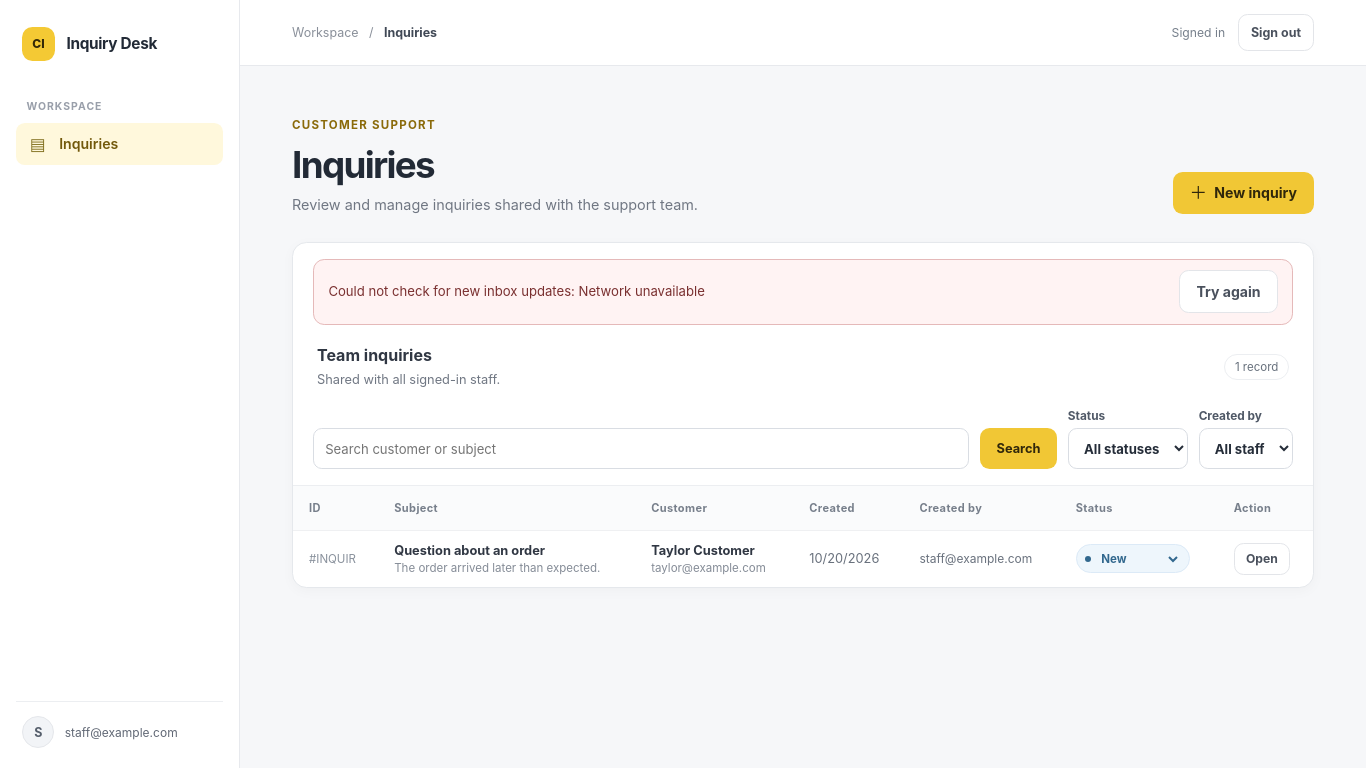
it: App › keeps current rows visible and offers retry when a background check fails
This screenshot has width=1366, height=768.
Expected: the text "Question about an order" is shown, [394,542,545,558]
Expected: the message "Could not check for new inbox updates: Network unavailable Try again" is shown, [313,259,1293,325]
Click the button "Try again".
click(1228, 292)  # box [1179,270,1278,313]
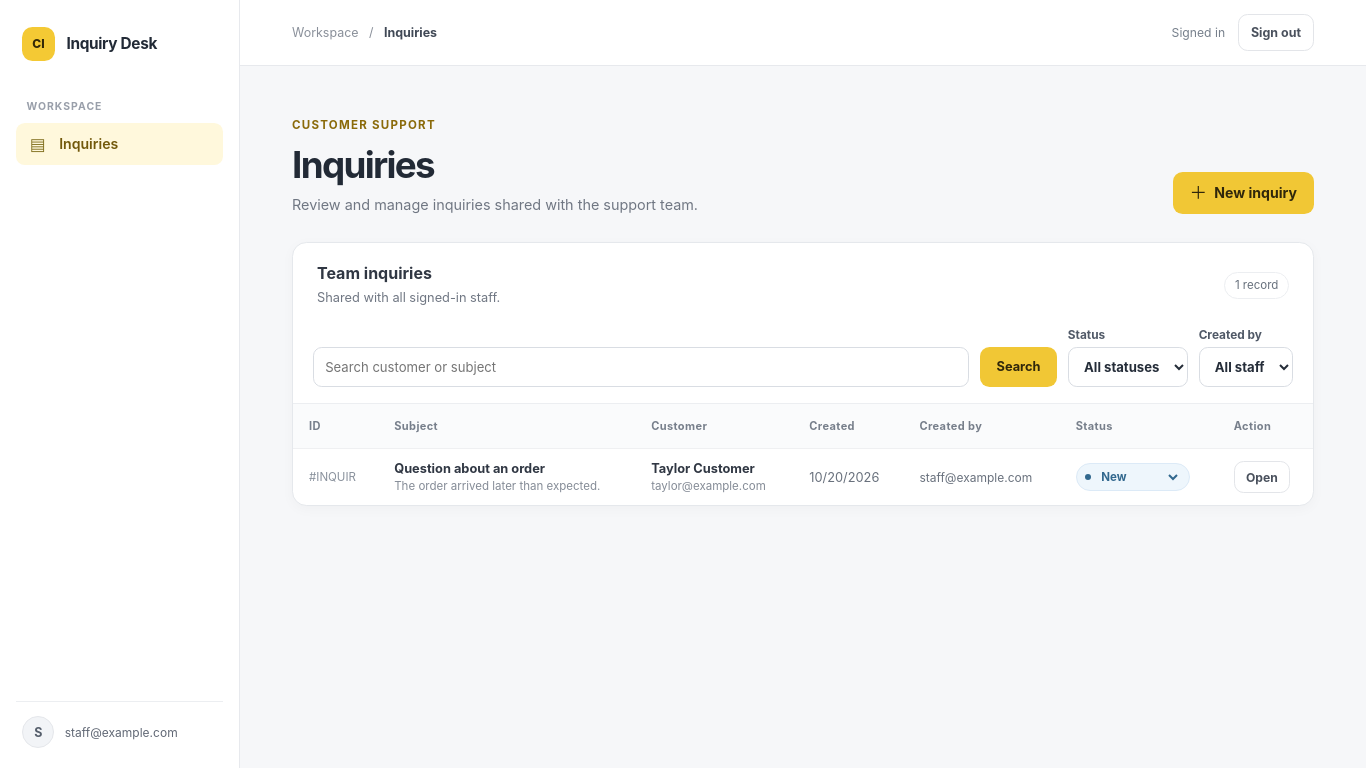
Expected: the text "Question about an order" is shown, [394,461,545,476]
Result: the text "Could not check for new inbox updates" is gone
